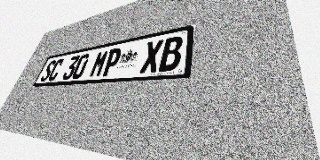0: (70, 53, 91, 79)
3: (61, 55, 81, 80)
B: (158, 35, 184, 72)
C: (46, 58, 65, 81)
M: (88, 49, 110, 78)
P: (101, 47, 123, 77)
S: (39, 60, 57, 82)
X: (139, 39, 164, 73)
